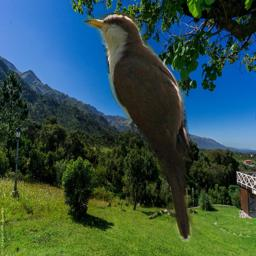Cuckoo: (82, 12, 197, 245)
